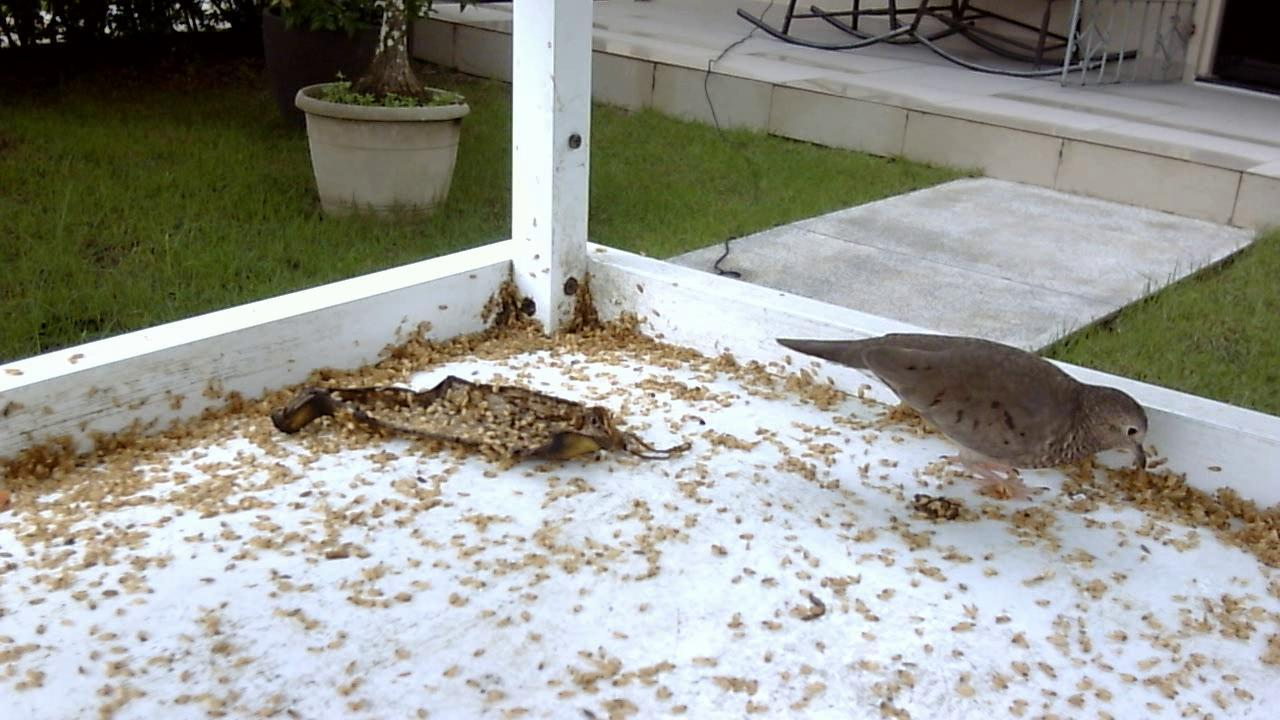rolinha: (762, 308, 1152, 491)
